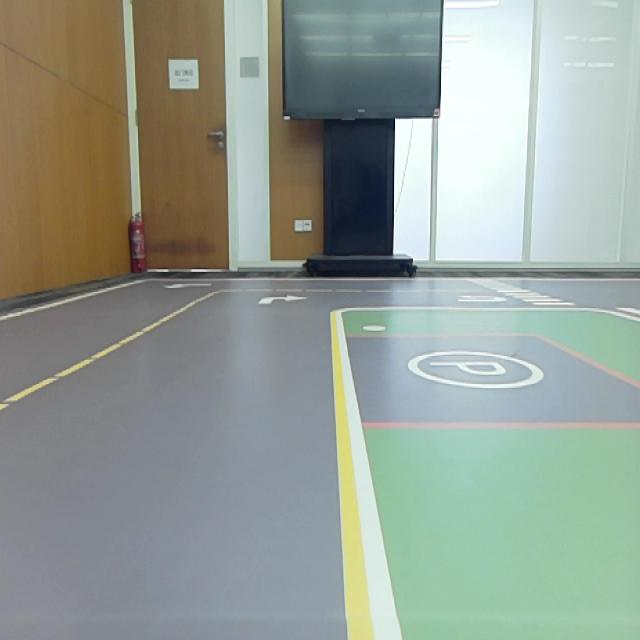left_lane: (1, 291, 210, 413)
right_lane: (329, 311, 376, 640), (0, 281, 138, 321)
